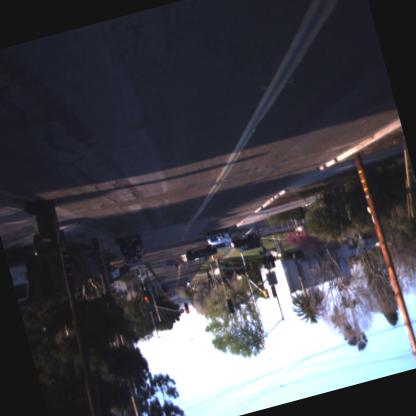trafficlight: (140, 284, 155, 314), (183, 300, 190, 316)
